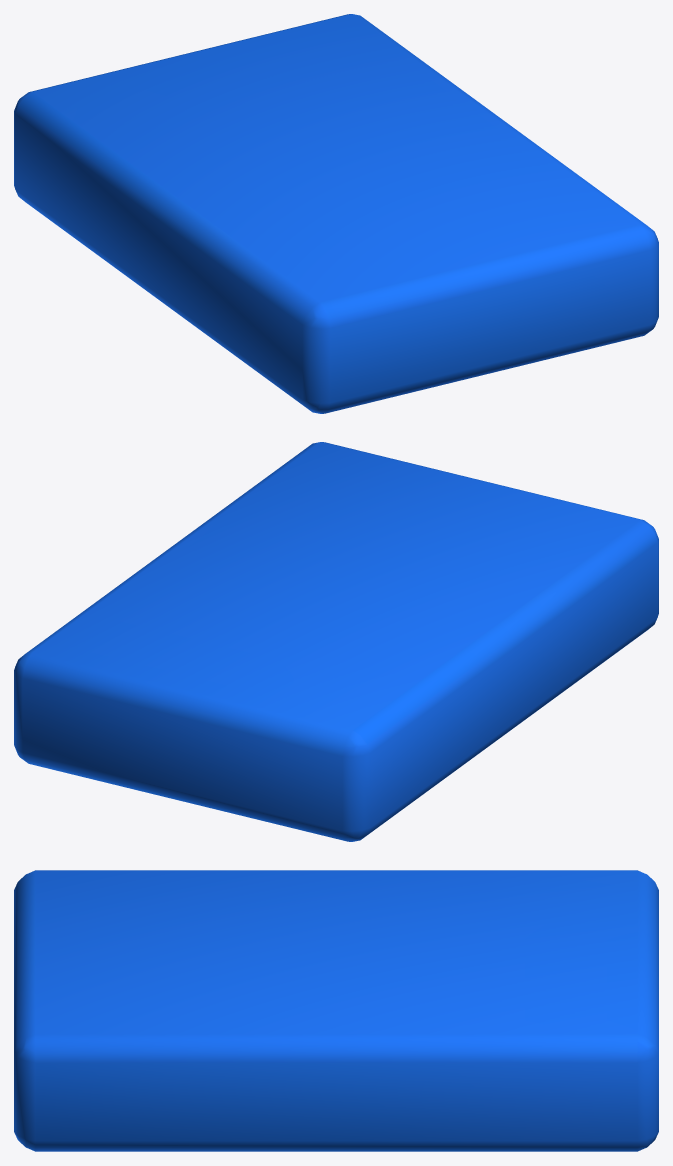
Rendered from CuboidBlockBlue.fbx.
3 renders of one model, top to bottom at view 1: azimuth 30°, elevation 25°; view 2: azimuth 150°, elevation 25°; view 3: azimuth 270°, elevation 25°, orthographic. The views are drawn at different scales.
Visible parts, largest first — view 1: CuboidBlock; view 2: CuboidBlock; view 3: CuboidBlock.
Boxes of the visible parts, x1=… form: CuboidBlock: x1=14, y1=14, x2=658, y2=413; CuboidBlock: x1=14, y1=442, x2=658, y2=841; CuboidBlock: x1=14, y1=870, x2=658, y2=1151.
Size of the model in its own units: 4 by 1.2 by 6.
